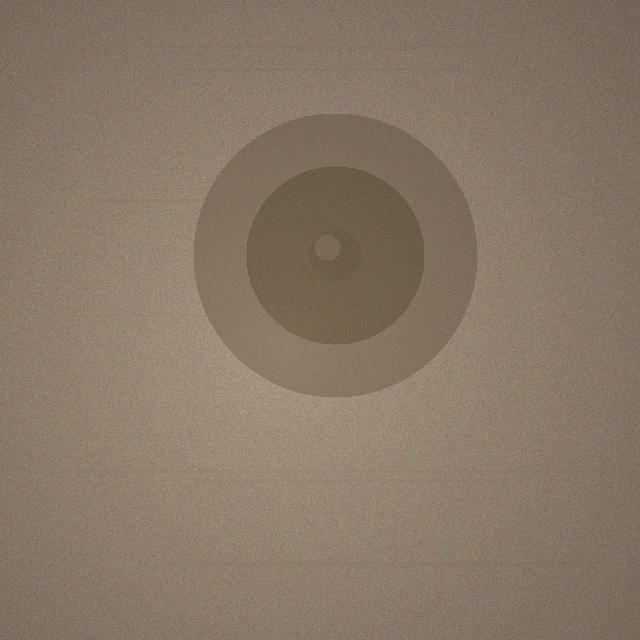good: (193, 113, 477, 397)
